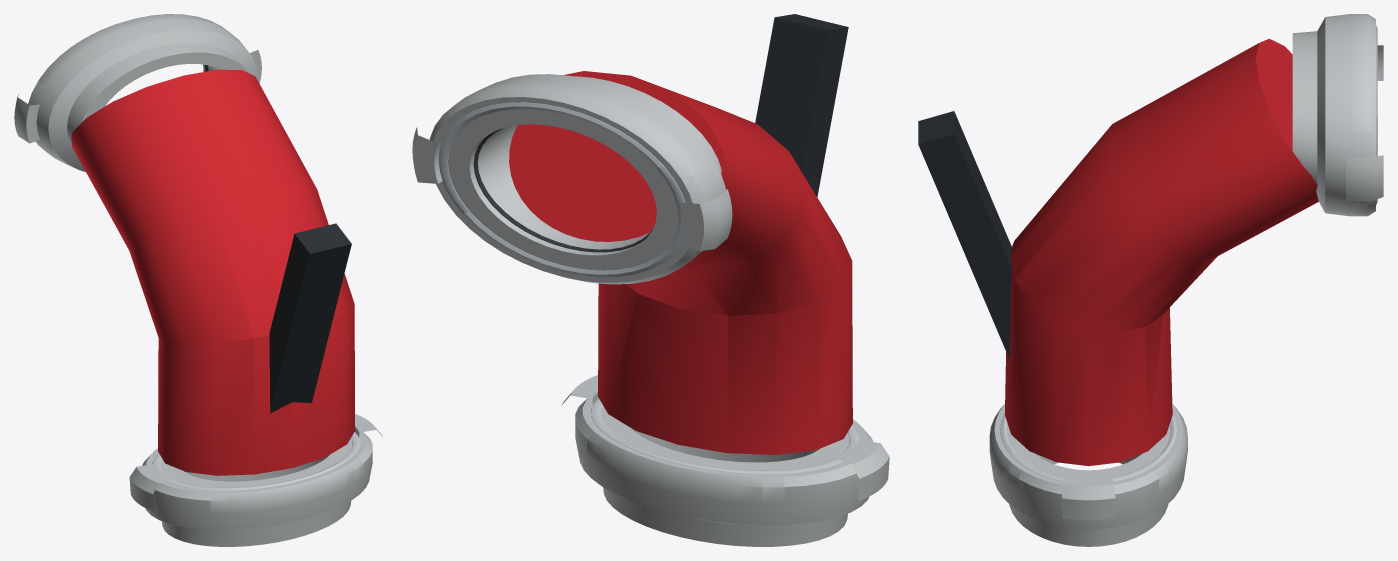
Rendered from ob_support_elbow.glb.
3 views of the same model, side by side, from view 1: azimuth 30°, elevation 25°; view 2: azimuth 150°, elevation 25°; view 3: azimuth 270°, elevation 25° (orthographic). The views are drawn at different scales.
Visible parts, largest first — view 1: ob_support_elbow; view 2: ob_support_elbow; view 3: ob_support_elbow.
Boxes of the visible parts, x1=… form: ob_support_elbow: x1=14, y1=14, x2=382, y2=546; ob_support_elbow: x1=412, y1=14, x2=889, y2=546; ob_support_elbow: x1=918, y1=14, x2=1383, y2=546.
Size of the model in its own units: 0.27 by 0.44 by 0.4.
